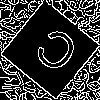C: (25, 24, 82, 84)
